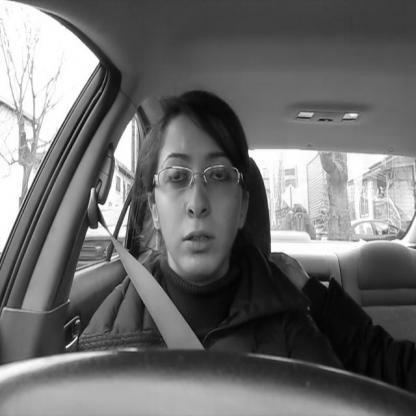seatbelt: (82, 74, 272, 349)
